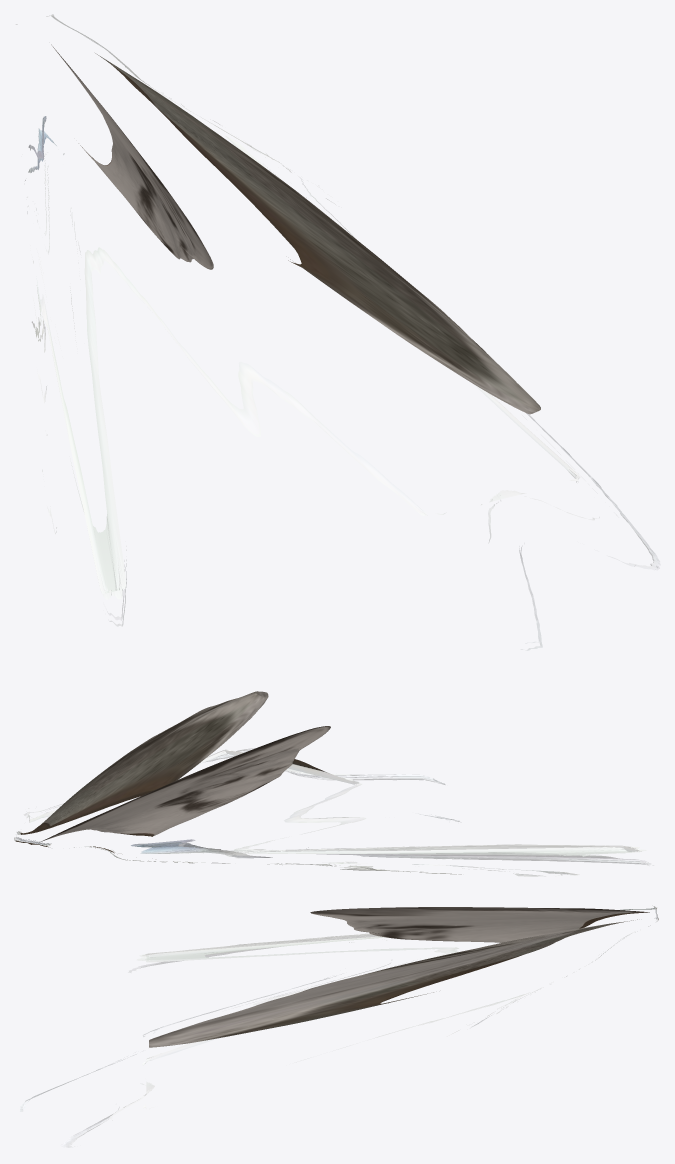
Rendered from earliest-colonial-accounts_640x360-50c9be9e36cf.glb.
3 views of the same model, one above another, from view 1: azimuth 30°, elevation 25°; view 2: azimuth 150°, elevation 25°; view 3: azimuth 270°, elevation 25° (orthographic). The views are drawn at different scales.
Visible parts, largest first — view 1: mesh0; view 2: mesh0; view 3: mesh0.
Boxes of the visible parts, x1,y1,x2,y2 form: mesh0: [16, 14, 660, 650]; mesh0: [14, 691, 653, 876]; mesh0: [20, 905, 658, 1147].
Bounding box in the file's own units: 14.54 × 7.99 × 24.11.
1 material, 1 textured.
